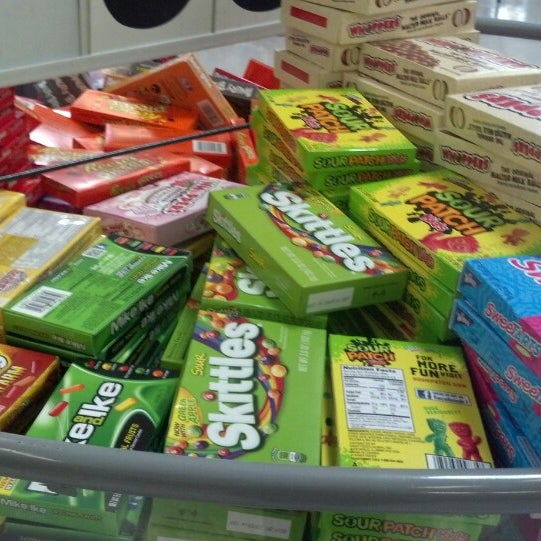Skittles: (187, 304, 316, 497), (205, 191, 394, 299)
